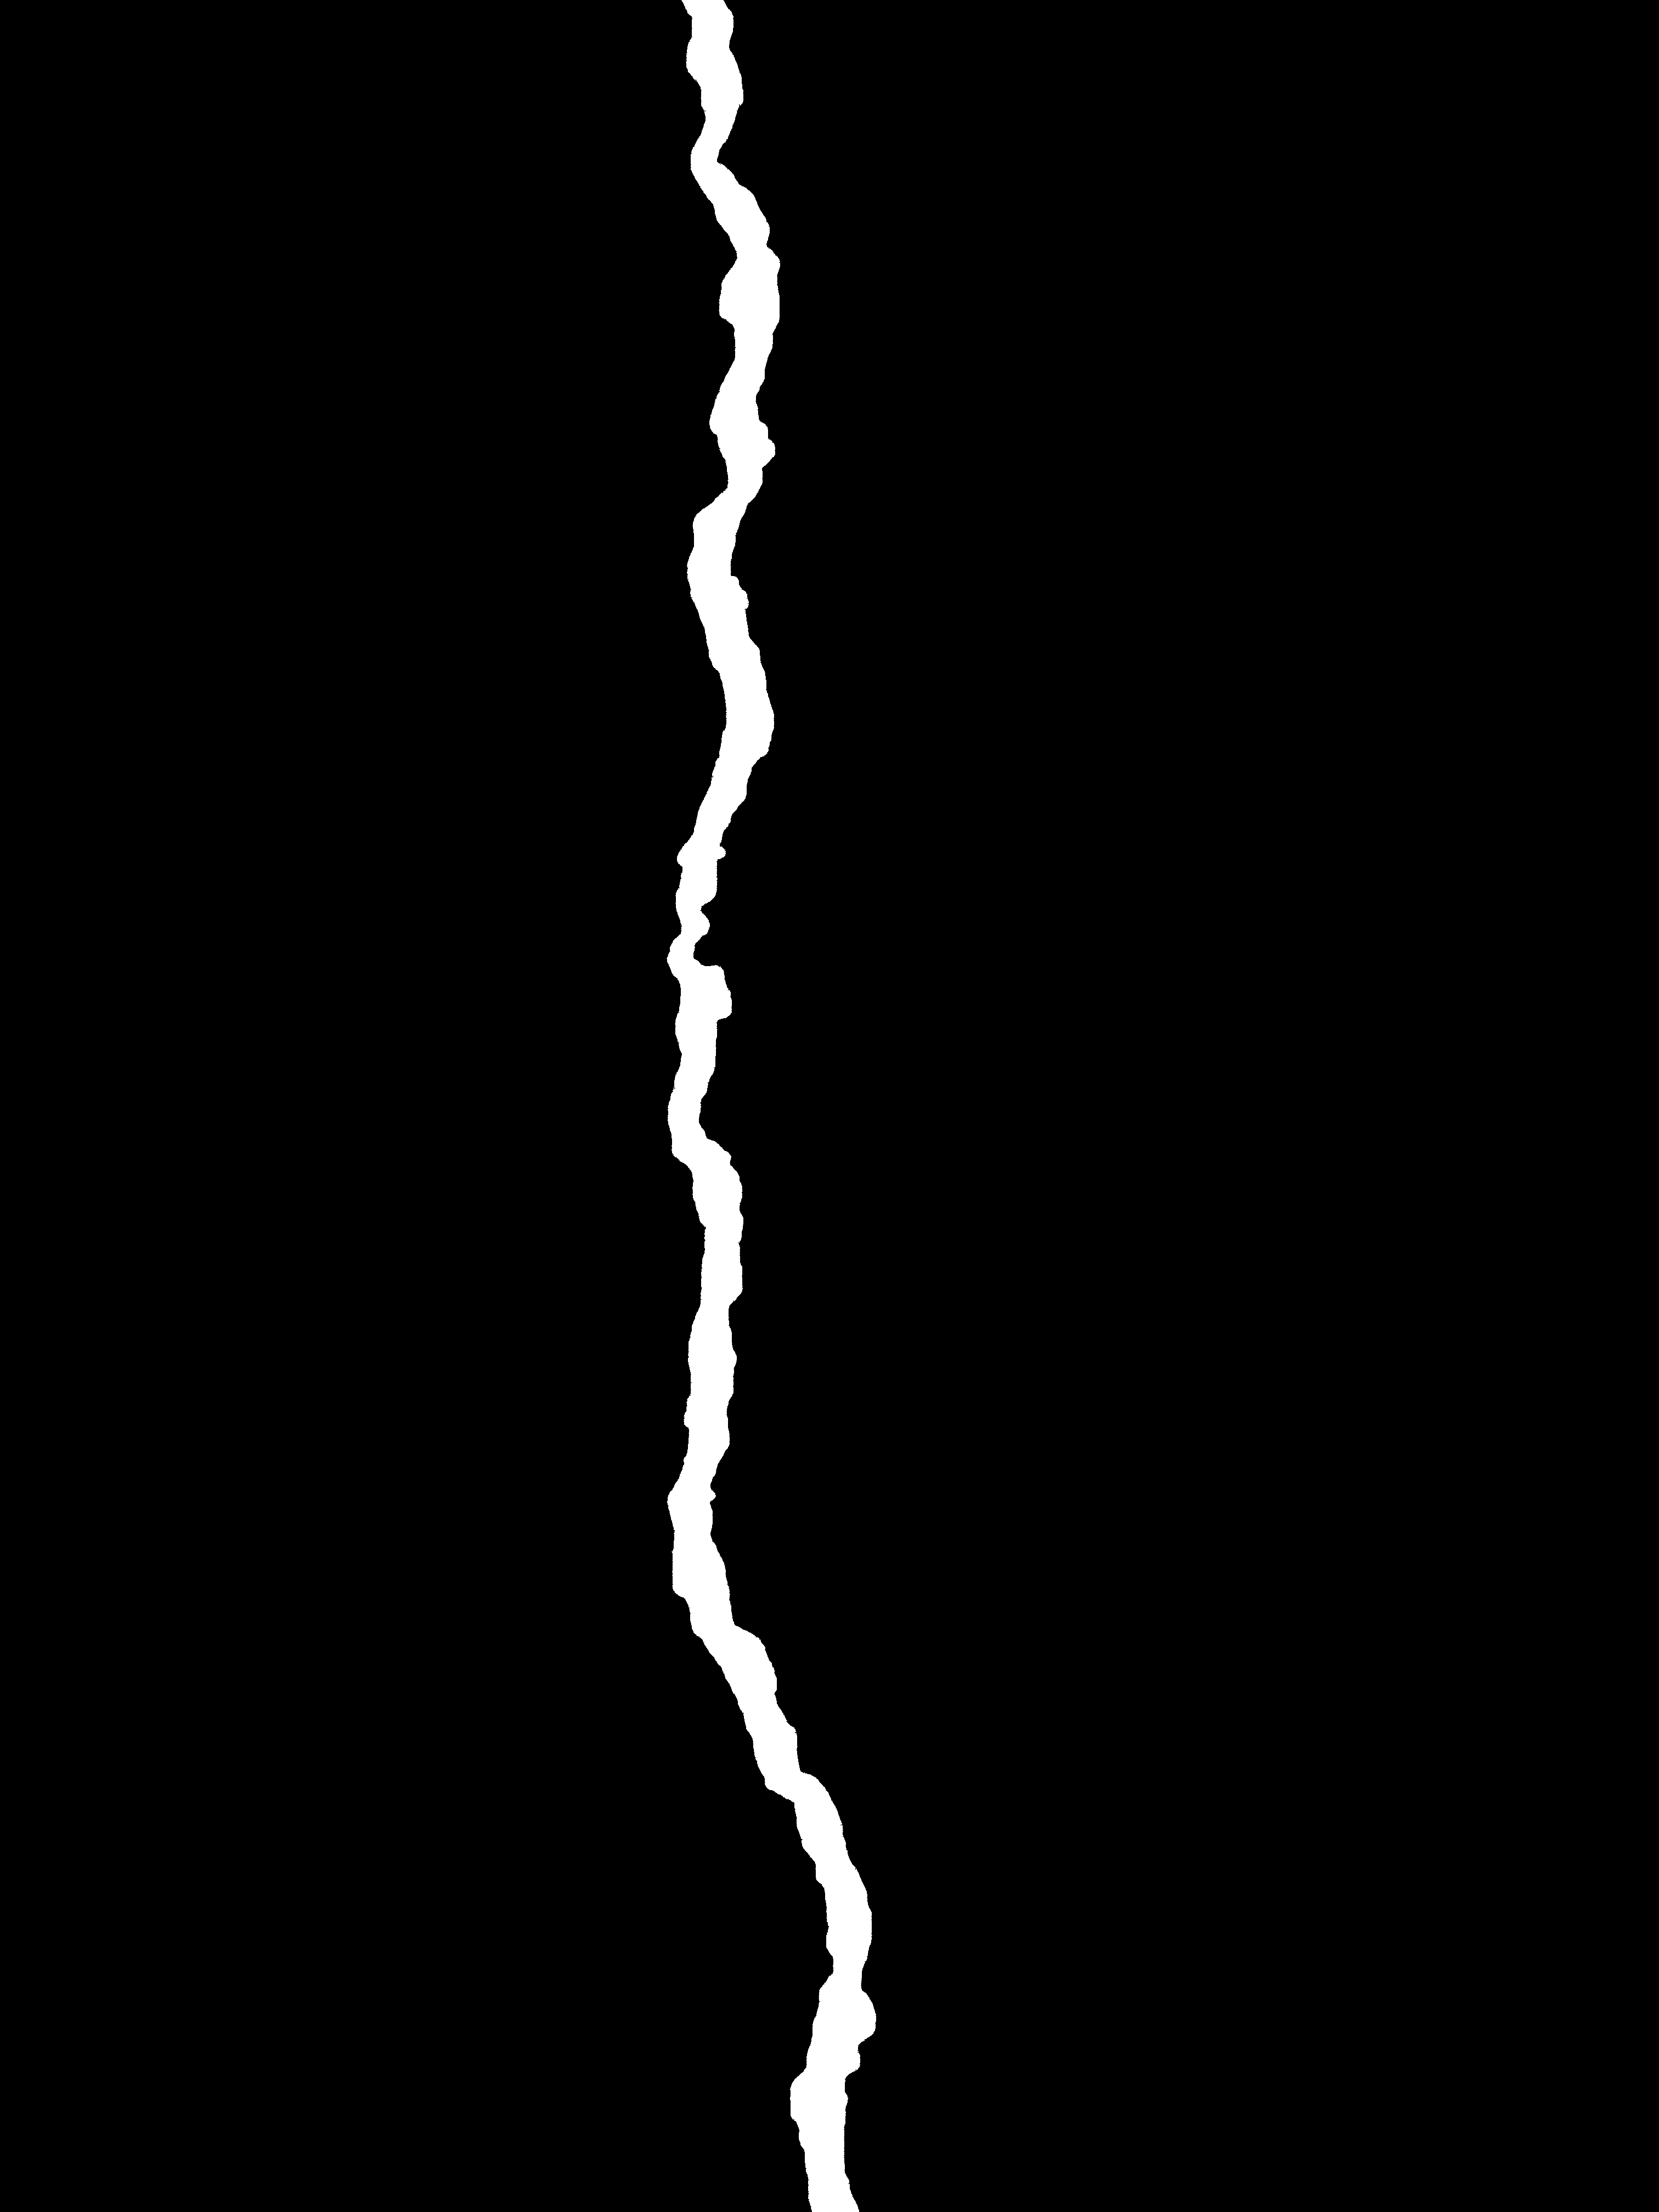Crack: (626, 0, 904, 2212)
